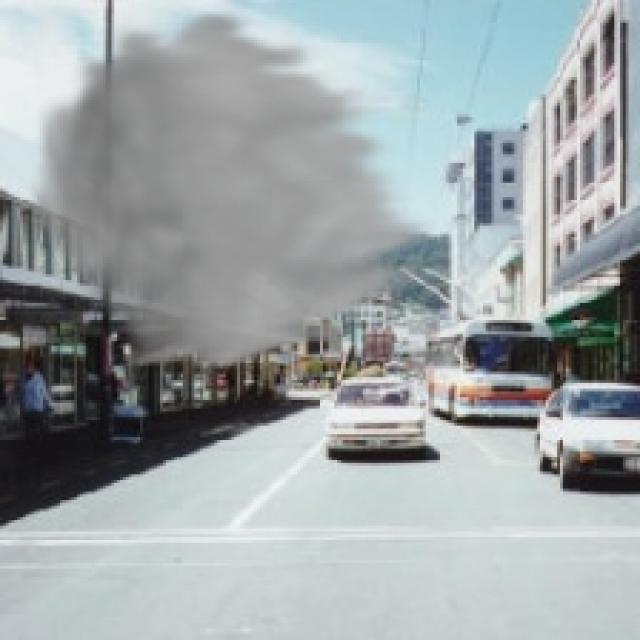Smoke: (23, 6, 446, 374)
